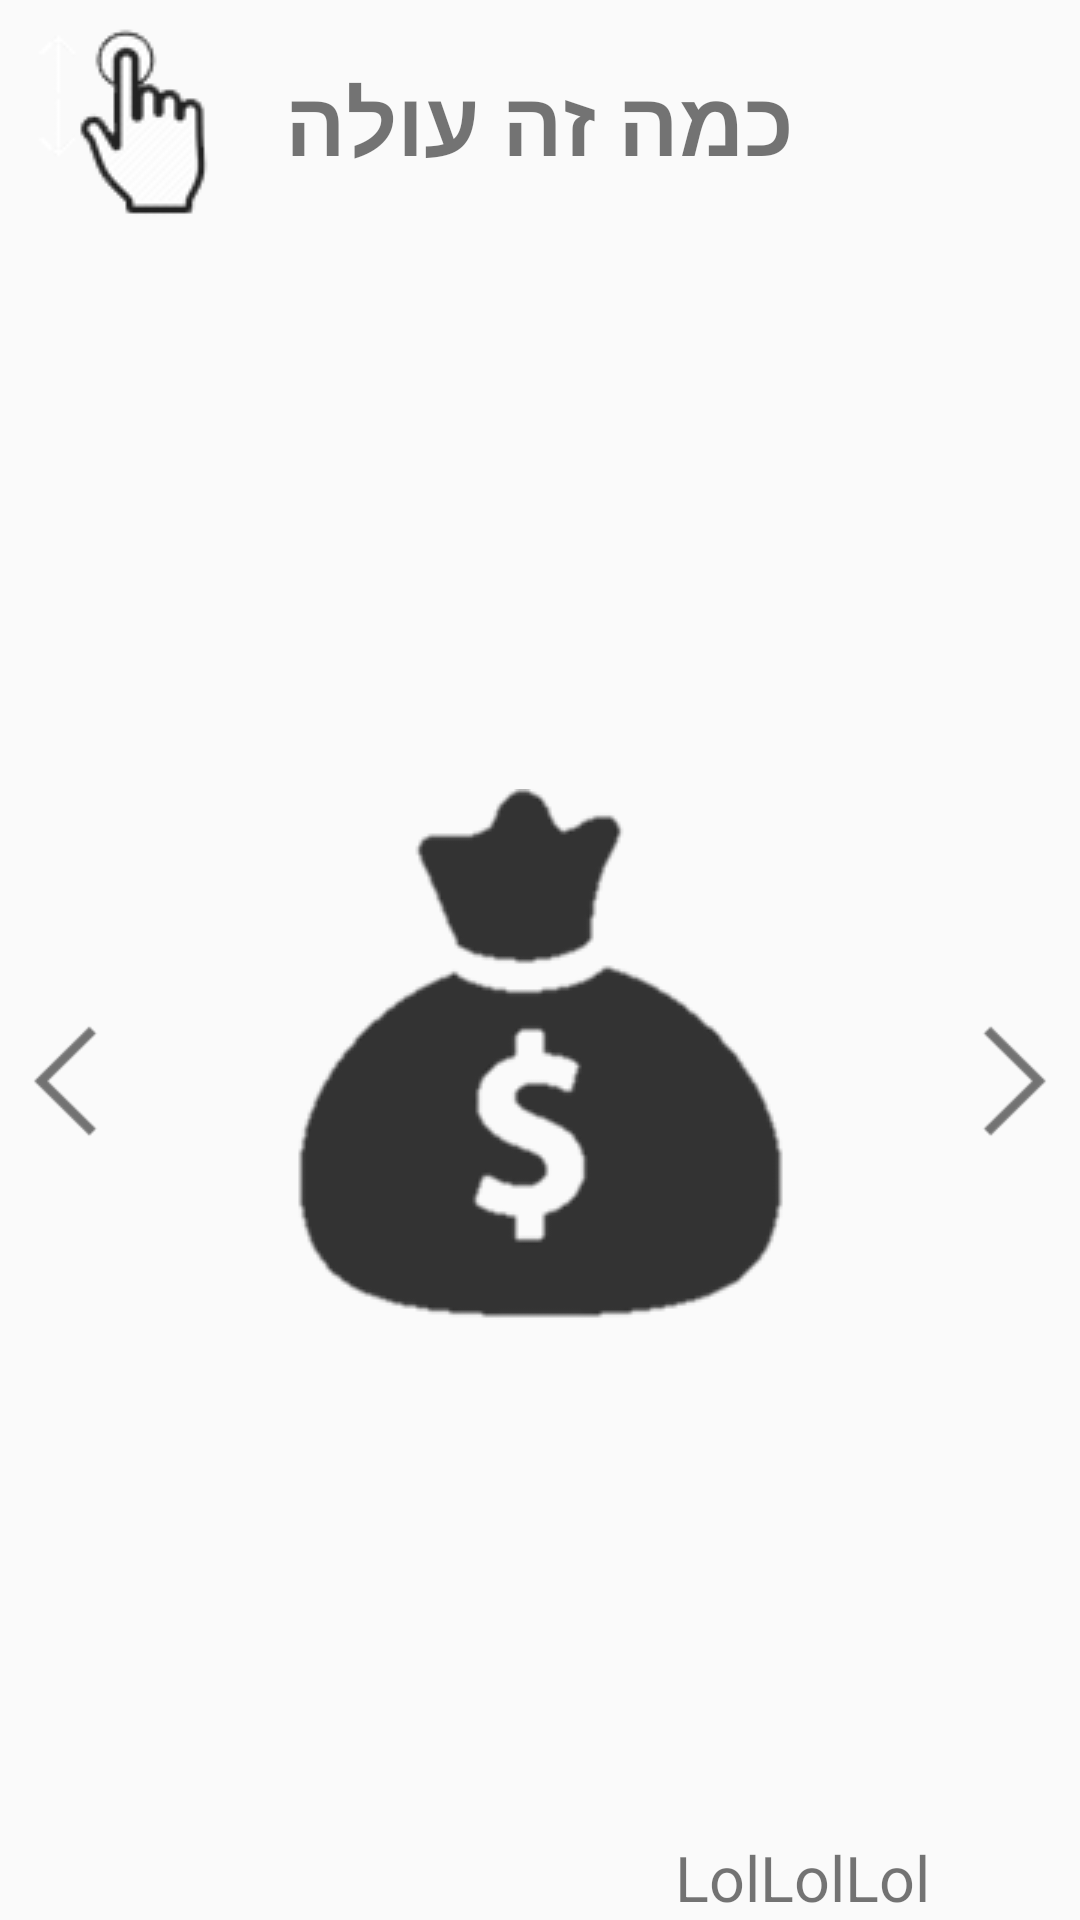

Icon bounding boxes for this 1080 x 1920 phone screenshot, format bbox(x1, y1, x2, y2):
navarrow: bbox(984, 1027, 1046, 1136)
navarrowleft: bbox(34, 1027, 96, 1136)
